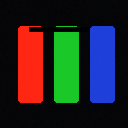3 line_h: (29, 27, 89, 31)
